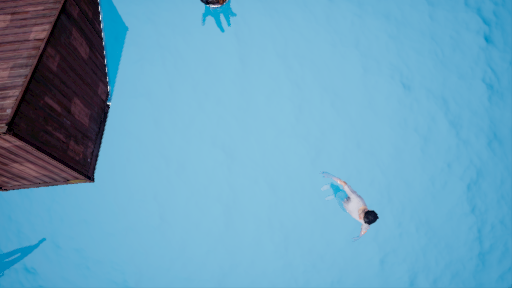person: (314, 174, 385, 247)
